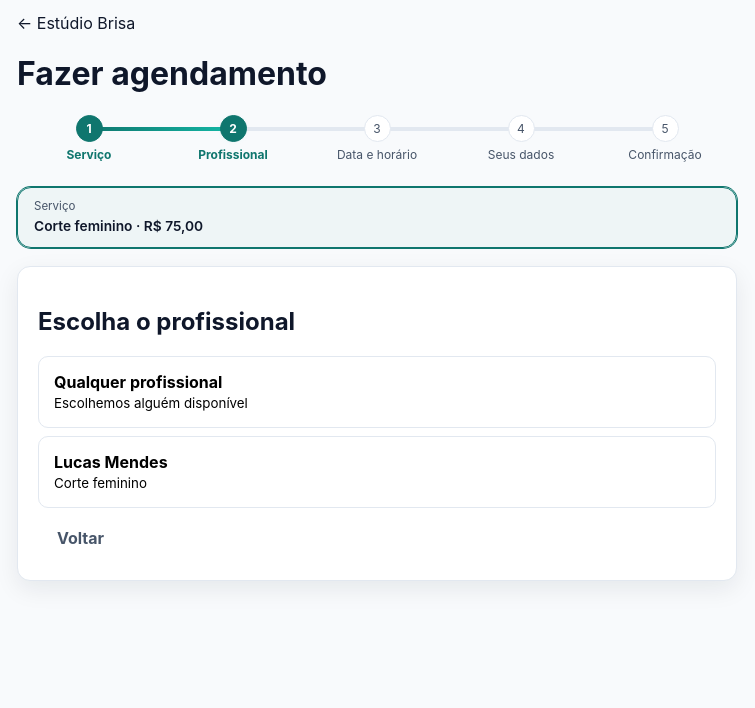
Test case: agendamento de um estabelecimento real › libera só a próxima etapa e mantém as anteriores acessíveis pelas bolinhas
Expected: the heading "Escolha o profissional" is shown, [38, 307, 295, 336]
Expected: the button with aria-label "Ir para Data e horário" is disabled, [305, 115, 449, 163]
Step 1. Click the button "Lucas Mendes" → x=111, y=462, box [38, 436, 716, 508]
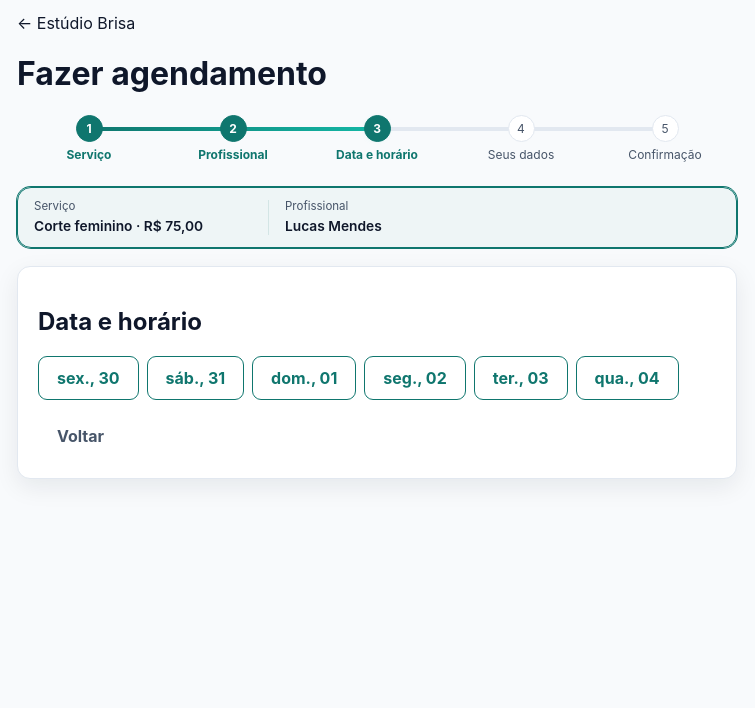
Expected: the button with aria-label "Ir para Seus dados" is disabled, [449, 115, 593, 163]
Expected: the button with aria-label "Ir para Data e horário" is marked as current, [305, 115, 449, 163]
Step 2. Click the button "sex., 30" → x=88, y=378, box [38, 356, 139, 400]
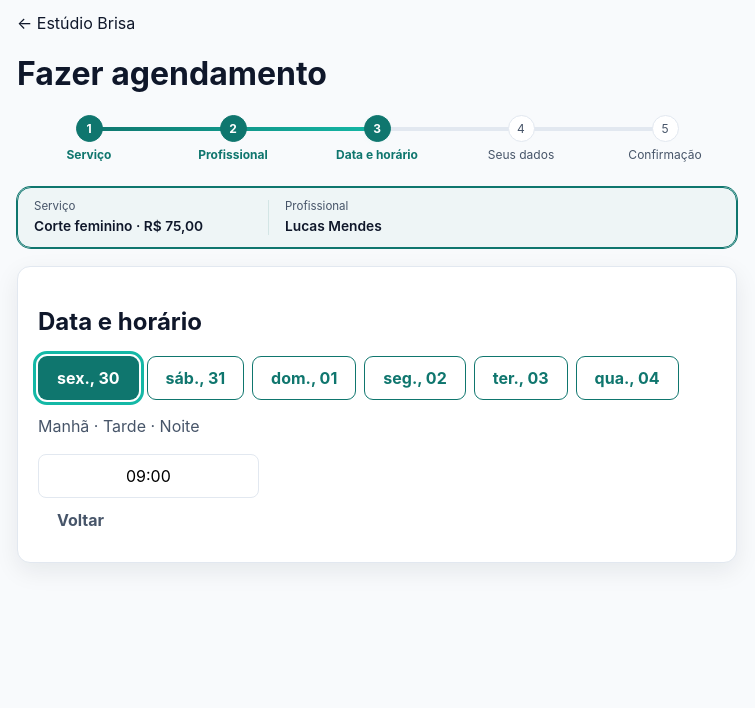
Step 3. Click the button "09:00" → x=148, y=476, box [38, 454, 259, 498]
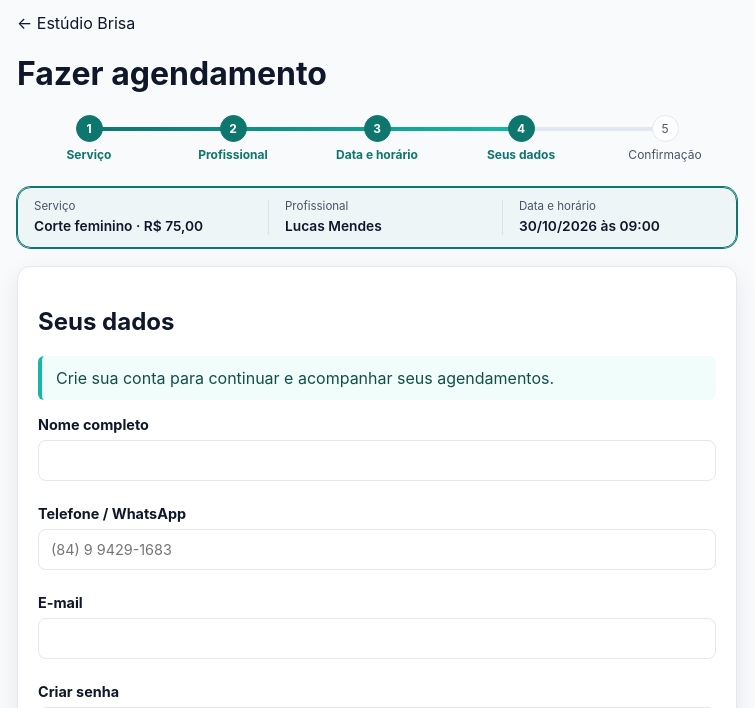
Expected: the element named "Resumo das escolhas" shows "Lucas Mendes", [285, 218, 382, 234]
Expected: the heading "Seus dados" is shown, [38, 307, 174, 336]
Expected: the element named "Resumo das escolhas" shows "09:00", [519, 218, 660, 234]
Step 4. Click the button with aria-label "Ir para Profissional" → x=233, y=139, box [161, 115, 305, 163]
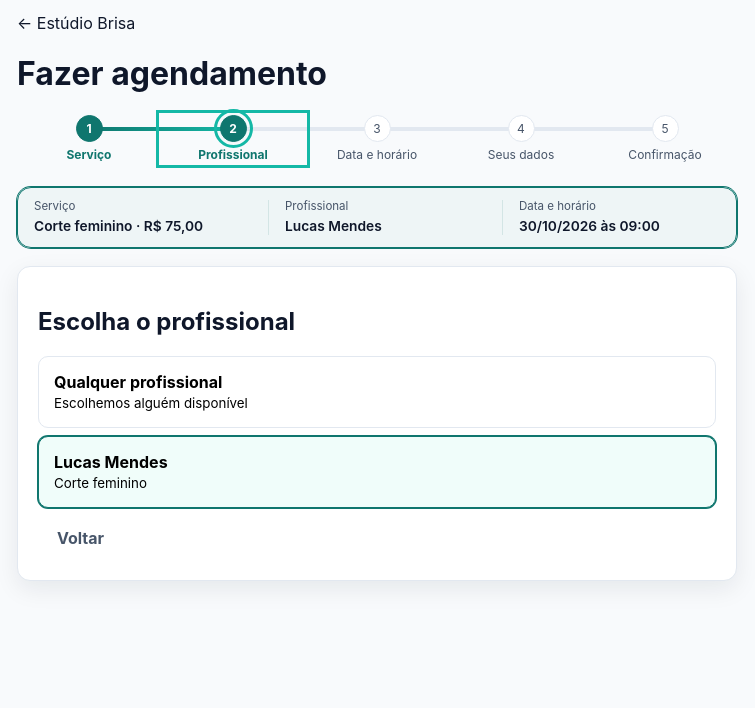
Expected: the heading "Escolha o profissional" is shown, [38, 307, 295, 336]
Step 5. Click the button with aria-label "Ir para Seus dados" → x=521, y=139, box [449, 115, 593, 163]
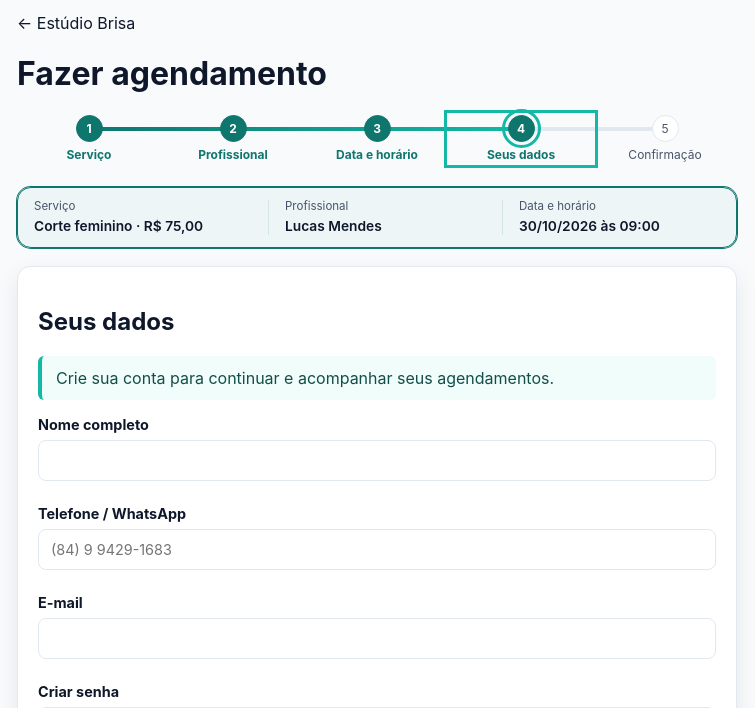
Expected: the heading "Seus dados" is shown, [38, 307, 174, 336]
